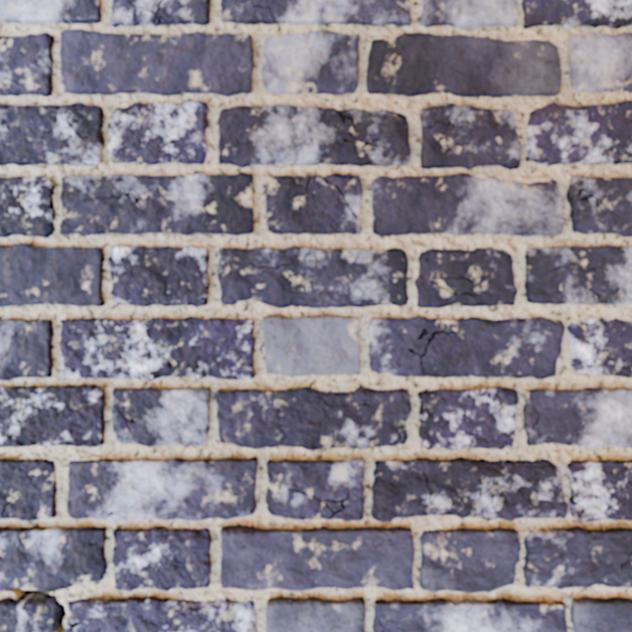brick: (61, 30, 252, 95), (221, 526, 413, 590), (372, 458, 567, 521), (367, 34, 561, 97), (216, 387, 411, 449), (60, 173, 253, 235), (68, 458, 257, 521), (219, 105, 410, 167), (60, 319, 254, 380), (373, 175, 564, 236), (369, 319, 564, 378), (218, 247, 407, 307), (0, 527, 106, 591), (420, 103, 521, 170), (527, 101, 631, 165), (0, 244, 104, 306), (524, 528, 631, 588), (0, 103, 103, 165), (374, 598, 567, 631), (68, 597, 255, 631), (524, 388, 631, 447), (420, 529, 520, 592), (108, 101, 208, 164), (0, 386, 104, 446), (112, 527, 211, 590), (418, 387, 518, 449), (266, 458, 364, 521), (262, 31, 359, 94), (526, 246, 631, 303), (262, 316, 360, 376), (416, 249, 517, 307), (109, 247, 209, 305), (112, 388, 210, 446), (266, 177, 360, 234), (222, 0, 411, 26), (568, 461, 631, 522), (567, 176, 631, 236), (568, 318, 631, 377), (569, 33, 631, 92), (0, 459, 56, 520), (0, 34, 54, 96), (267, 597, 365, 631), (0, 177, 55, 237), (0, 320, 53, 380), (523, 0, 631, 28), (422, 0, 517, 29), (111, 0, 210, 27), (0, 0, 100, 24), (572, 597, 631, 631), (0, 598, 56, 631), (330, 177, 362, 217)
crack: (2, 587, 81, 631), (287, 488, 351, 520), (319, 174, 359, 220), (66, 104, 89, 148), (126, 0, 167, 24), (38, 105, 62, 145), (525, 407, 553, 440), (234, 0, 275, 21), (113, 405, 137, 438), (1, 492, 20, 519), (297, 176, 310, 202), (422, 120, 455, 128), (620, 552, 631, 571), (0, 74, 20, 84), (102, 511, 115, 520), (378, 619, 385, 631)
